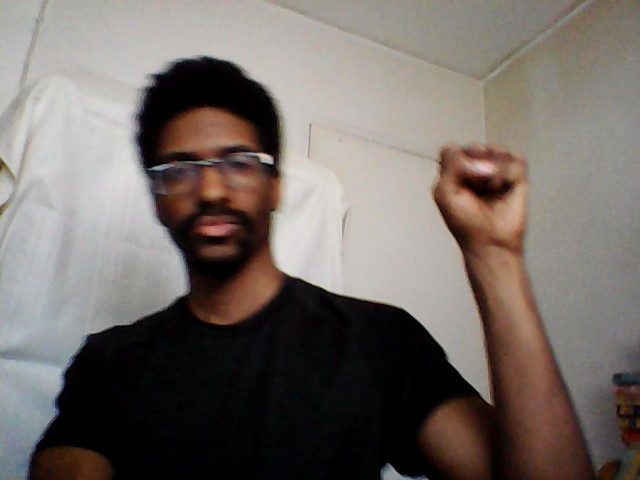s: (428, 138, 535, 250)
